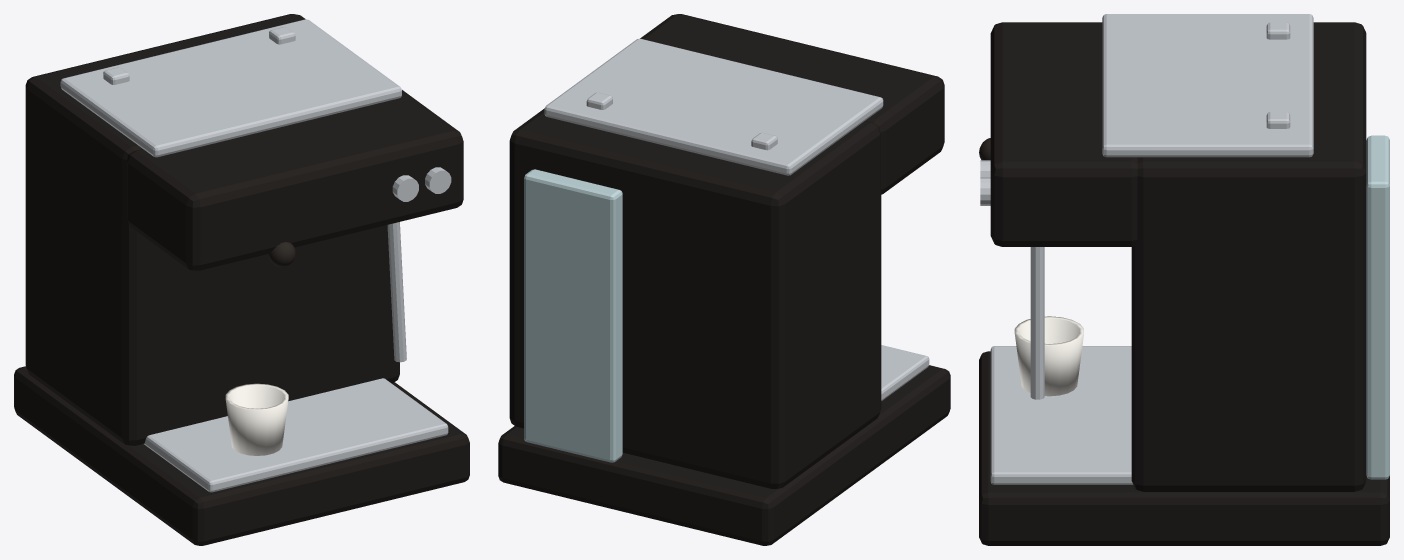
The model's file is hh_cat_coffee_machine_v.glb.
3 renders of one model, left to right at view 1: azimuth 30°, elevation 25°; view 2: azimuth 150°, elevation 25°; view 3: azimuth 270°, elevation 25°, orthographic. The views are drawn at different scales.
Parts seen in each view (by area): view 1: machine_body, group_head, cup_warmer, machine_base, drip_grate, cup, steam_wand, dial, dial.001; view 2: machine_body, water_tank, cup_warmer, machine_base, group_head, drip_grate; view 3: machine_body, cup_warmer, group_head, machine_base, drip_grate, water_tank, cup, steam_wand.
Part boxes in pixels (left/top/right/bottom): machine_body: left=25, top=14, right=399, bottom=445; group_head: left=127, top=90, right=463, bottom=270; cup_warmer: left=60, top=19, right=401, bottom=157; machine_base: left=14, top=366, right=469, bottom=545; drip_grate: left=144, top=378, right=448, bottom=492; cup: left=225, top=383, right=288, bottom=455; steam_wand: left=387, top=222, right=406, bottom=362; dial: left=392, top=175, right=418, bottom=201; dial.001: left=425, top=167, right=451, bottom=193; machine_body: left=509, top=108, right=881, bottom=489; water_tank: left=524, top=169, right=622, bottom=462; cup_warmer: left=544, top=38, right=883, bottom=175; machine_base: left=498, top=365, right=950, bottom=545; group_head: left=640, top=14, right=944, bottom=194; drip_grate: left=881, top=345, right=929, bottom=400; machine_body: left=1131, top=22, right=1366, bottom=491; cup_warmer: left=1102, top=14, right=1313, bottom=157; group_head: left=990, top=22, right=1137, bottom=246; machine_base: left=979, top=351, right=1389, bottom=545; drip_grate: left=990, top=346, right=1133, bottom=484; water_tank: left=1366, top=135, right=1389, bottom=479; cup: left=1014, top=316, right=1083, bottom=396; steam_wand: left=1030, top=247, right=1044, bottom=399.
Bounding box in the file's own units: 0.3 × 0.38 × 0.35.
